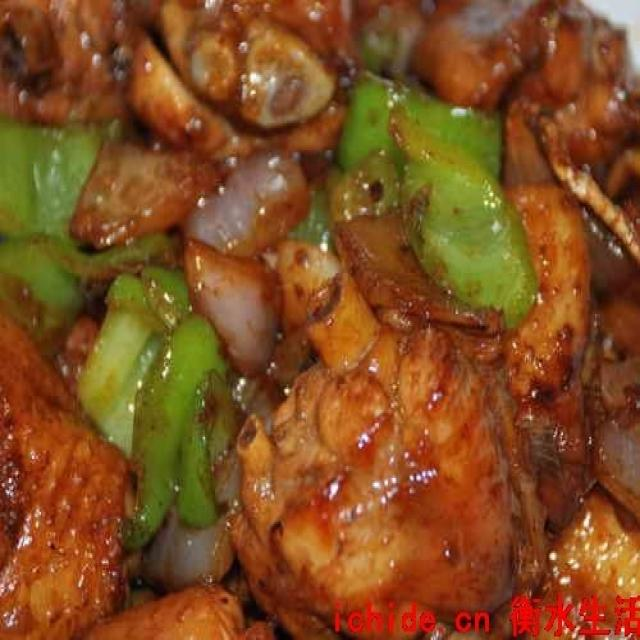鸡肉料理 含炸鸡: (8, 5, 626, 609)
